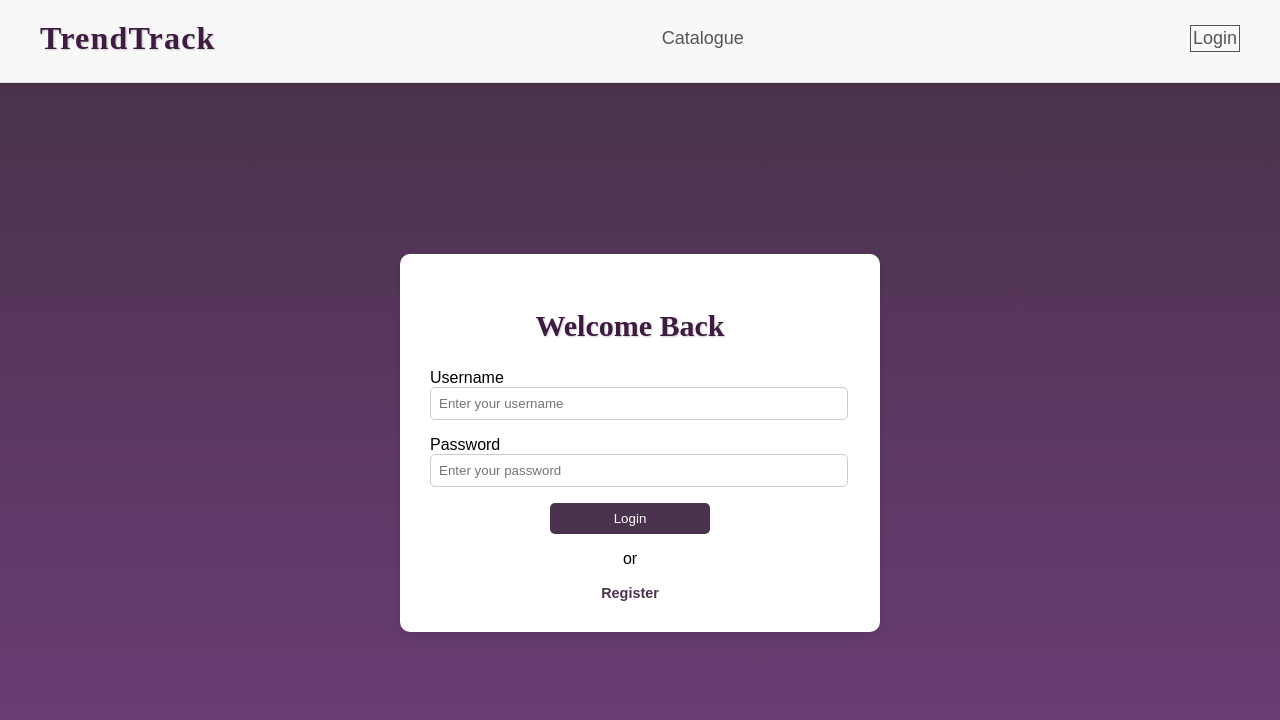
it: Authentication Flow › Validates login form fields
This screenshot has width=1280, height=720.
Click the submit button.
click(630, 519)  # box top-left (550, 503), bottom-right (710, 534)
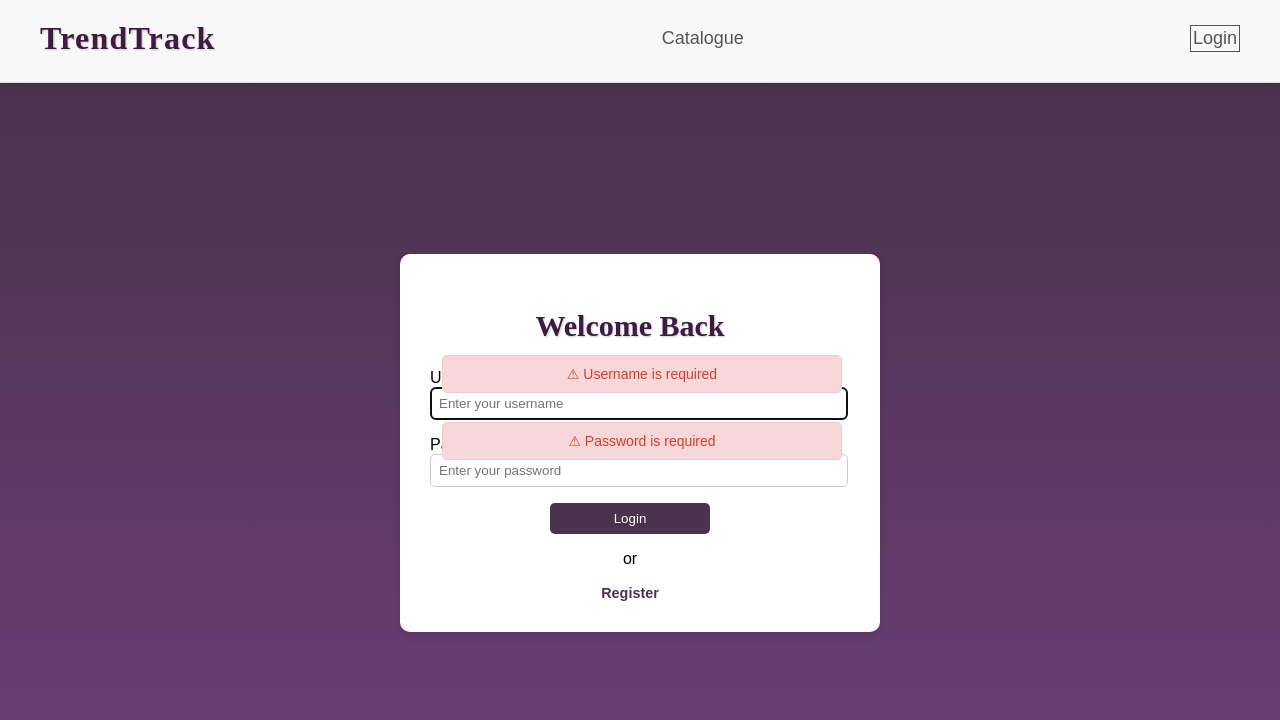
expect the text "Username is required" is shown: met, box top-left (442, 355), bottom-right (842, 393)
expect the text "Password is required" is shown: met, box top-left (442, 422), bottom-right (842, 460)
